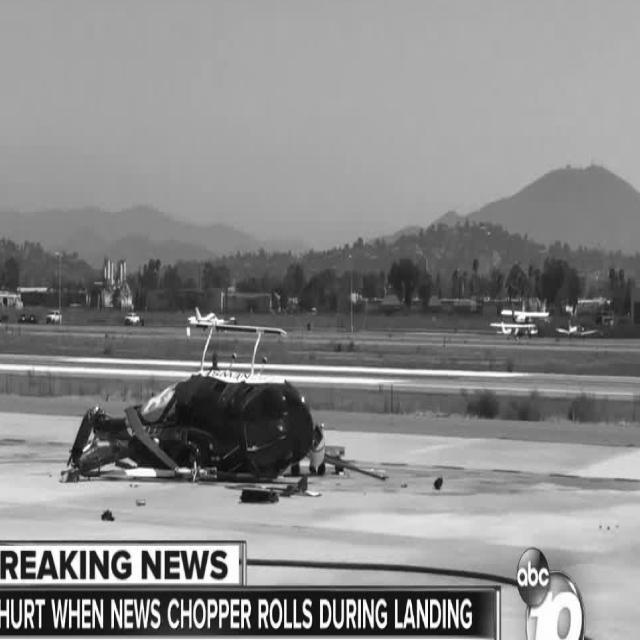helicopter: (58, 300, 357, 514)
